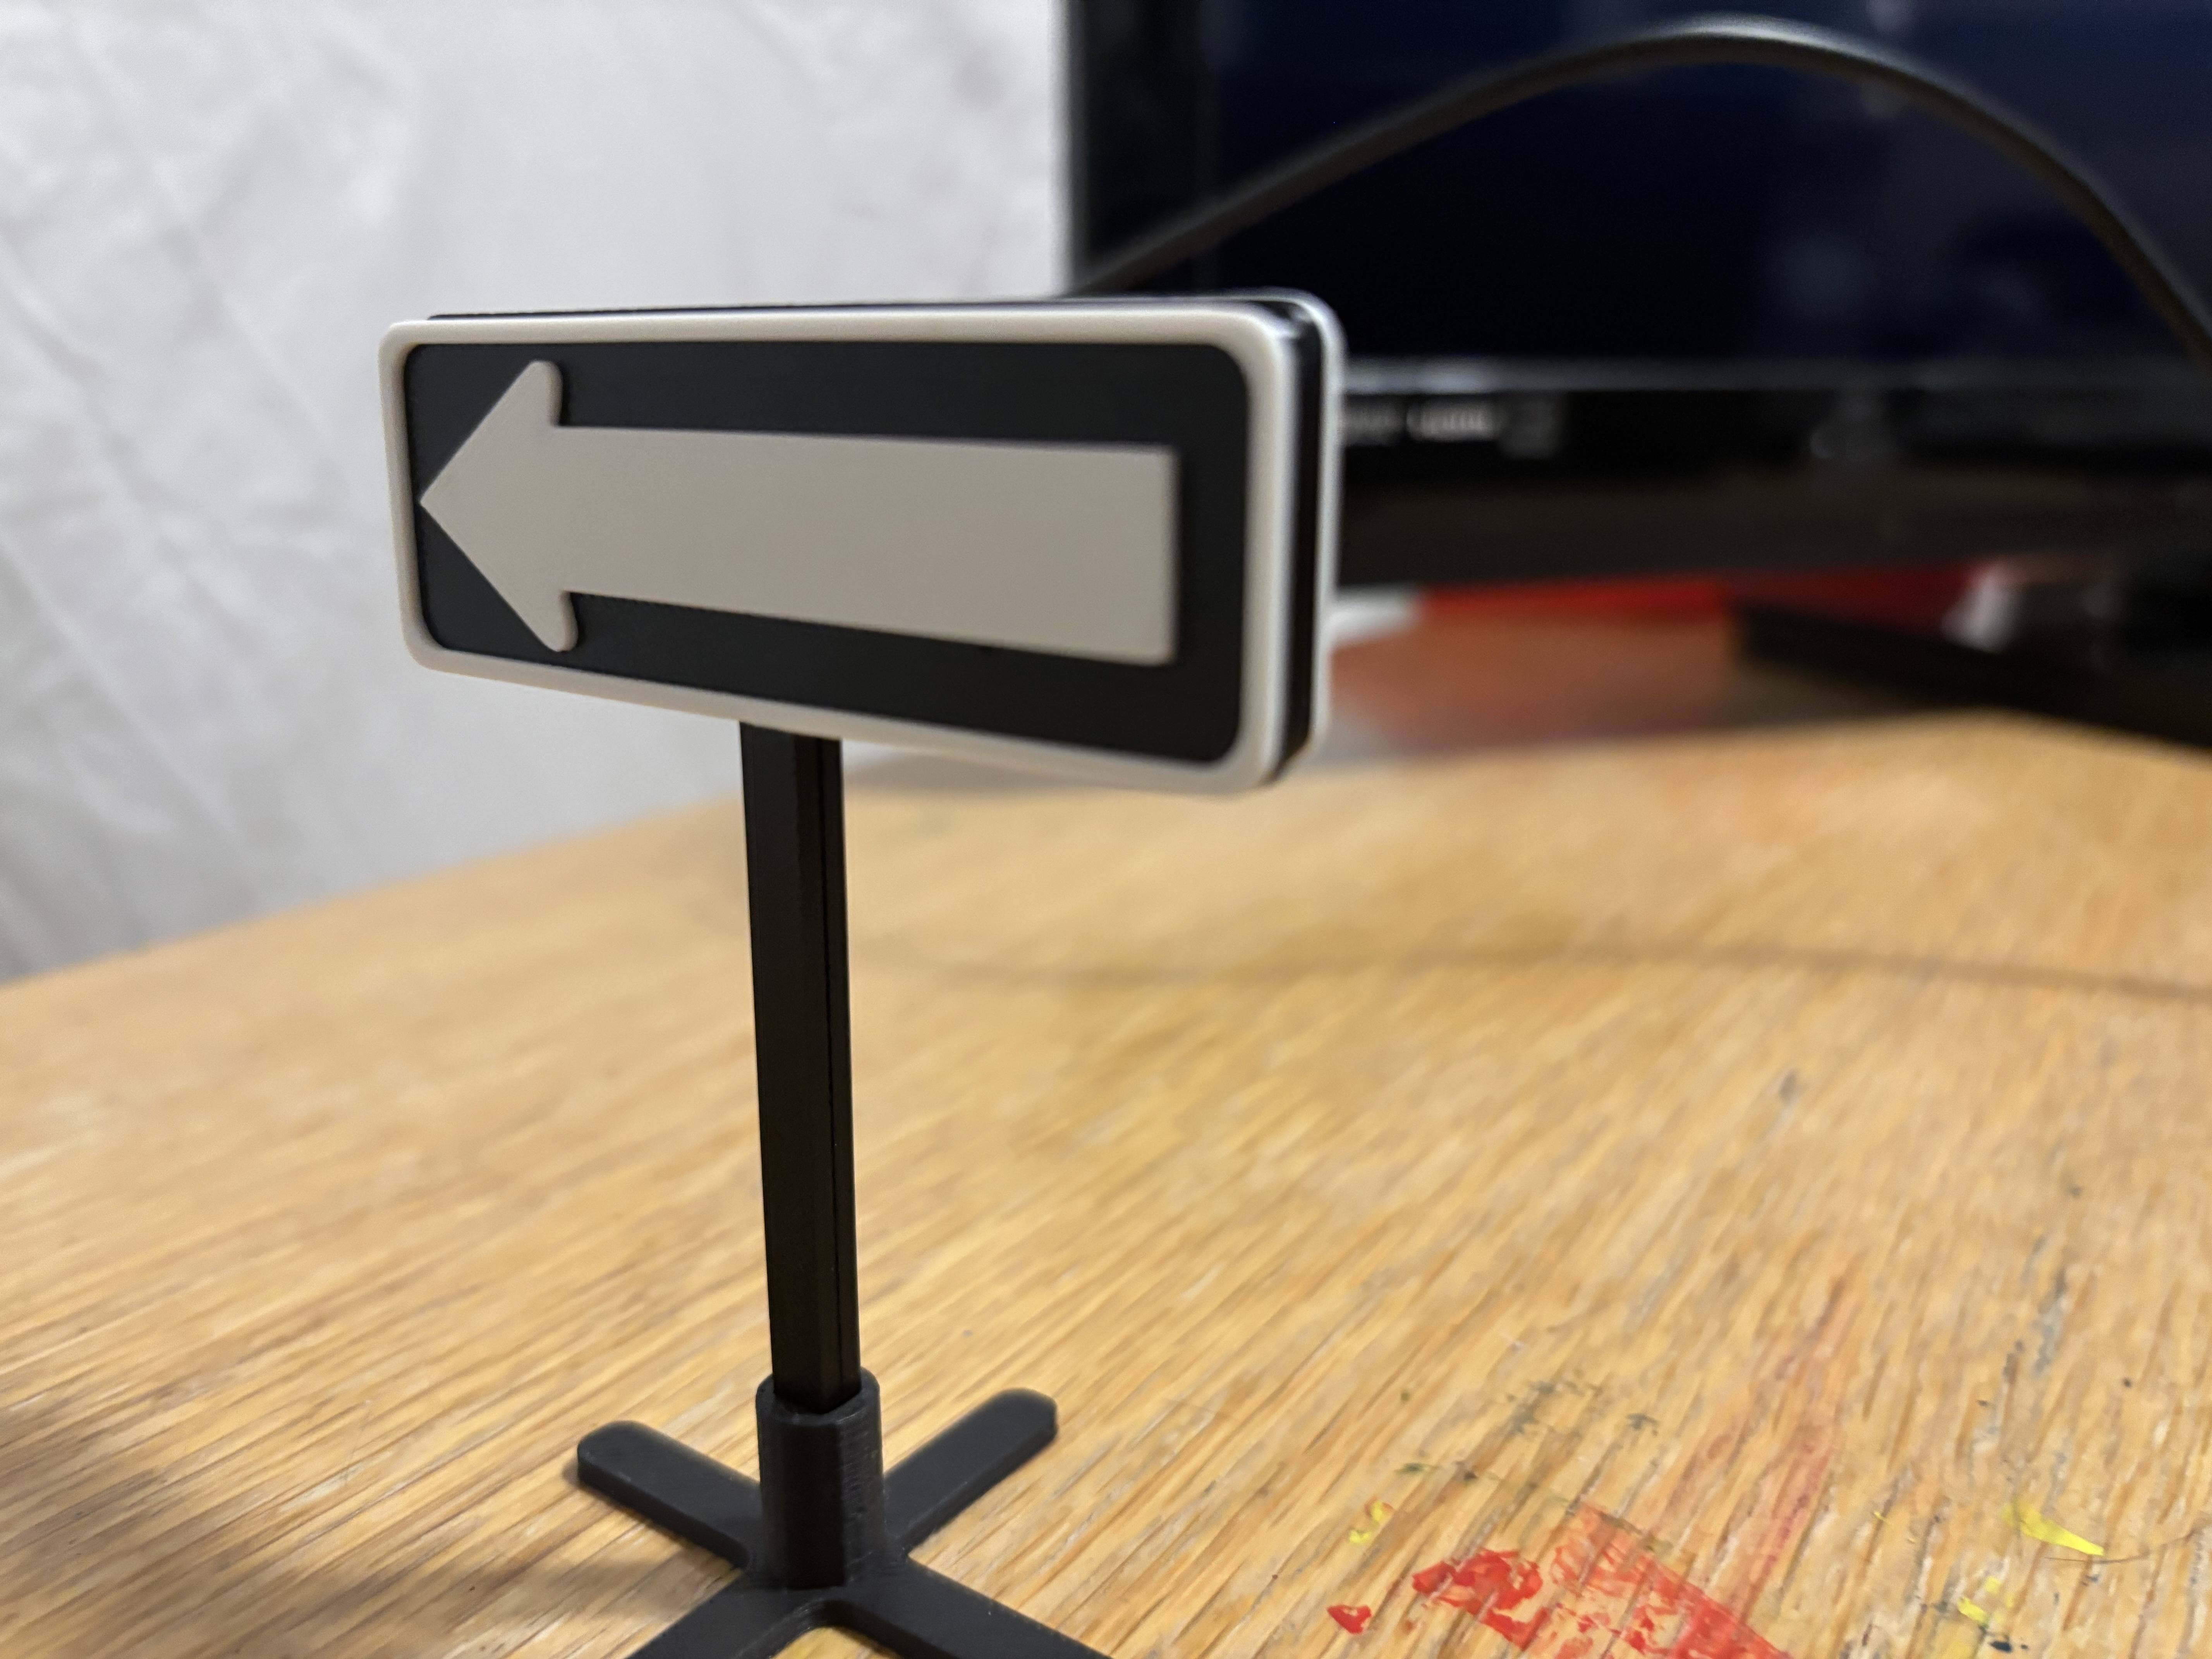sign_oneway_left: (368, 308, 1299, 796)
